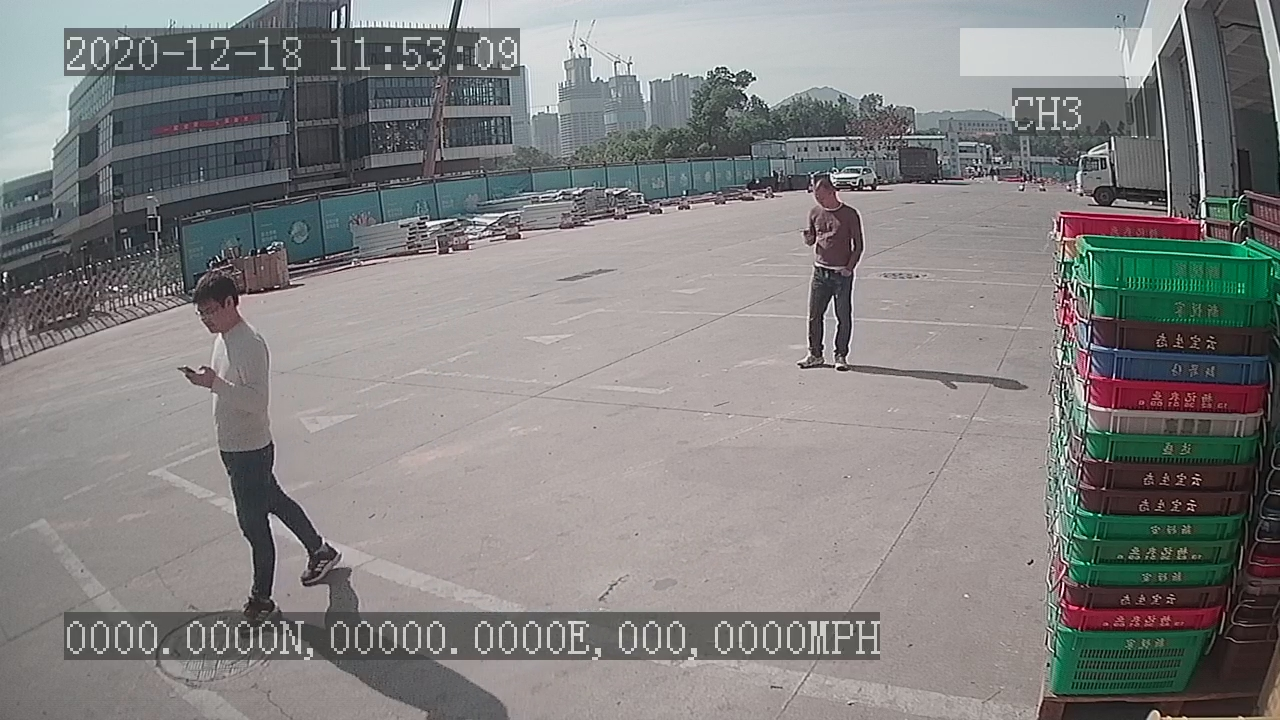person: (793, 169, 868, 379)
